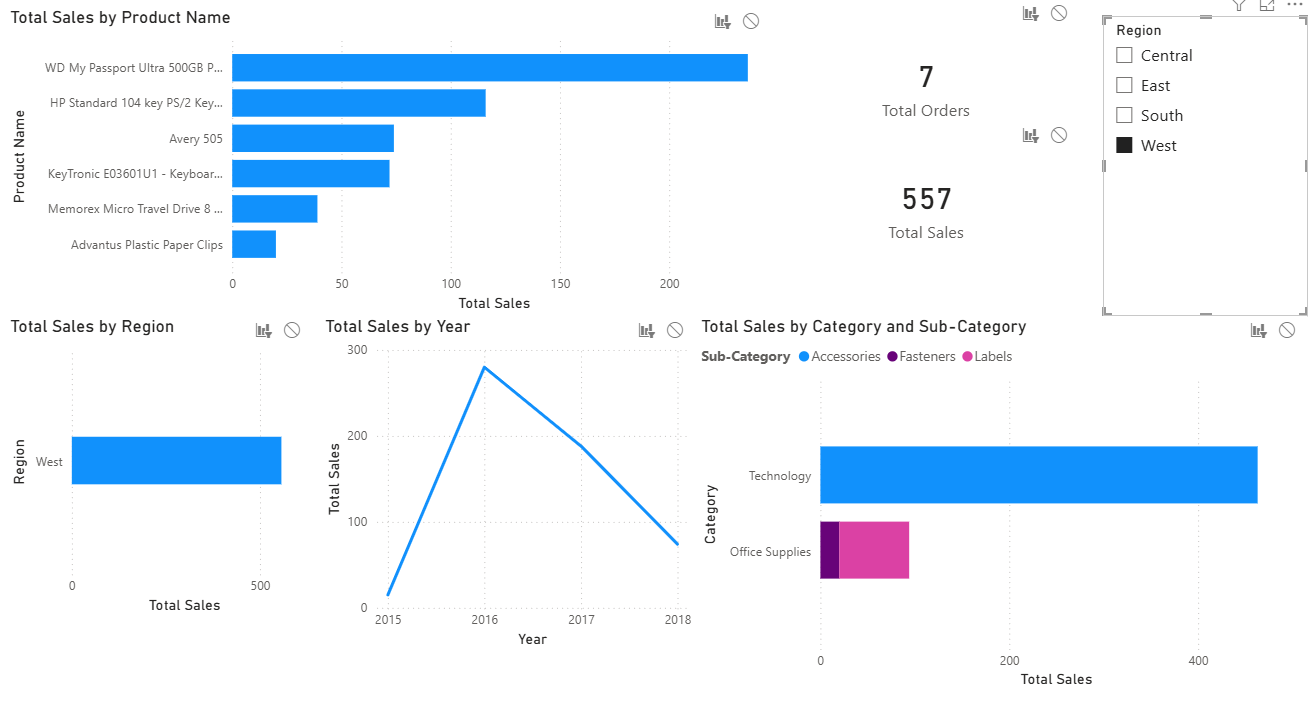

What the dashboard file says about the page in this screenshot:
{"tool":"powerbi","page":{"name":"Page 1","canvas":[1280,720],"ordinal":0},"visuals":[{"type":"card","fields":{"Values":["train (2).Total Orders"]},"box":[758.7,29.2,299.6,118.7],"z":0},{"type":"card","fields":{"Values":["train (2).Total Revenue"]},"box":[758.7,147.8,299.6,118.7],"z":1000},{"type":"lineChart","fields":{"Category":["train (2).Order Date.Variation.Date Hierarchy.Year","train (2).Order Date.Variation.Date Hierarchy.Quarter","train (2).Order Date.Variation.Date Hierarchy.Month","train (2).Order Date.Variation.Date Hierarchy.Day"],"Y":["train (2).Total Revenue"]},"box":[319,313.2,365.7,326.8],"z":2000},{"type":"barChart","fields":{"Category":["train (2).Region"],"Y":["train (2).Total Revenue"]},"box":[12.6,313.2,299.6,293.7],"z":3000},{"type":"barChart","fields":{"Category":["train (2).Product Name"],"Y":["train (2).Total Revenue"]},"box":[12.6,12.6,746,300.5],"z":4000},{"type":"slicer","fields":{"Values":["train (2).Region"]},"box":[1080.6,21.4,199.4,291.8],"z":5000},{"type":"barChart","fields":{"Category":["train (2).Category"],"Y":["train (2).Total Revenue"],"Series":["train (2).Sub-Category"]},"box":[684.7,313.2,595.3,366.7],"z":6000}]}

Visuals, with their boxes on the page's 1280x720 design canvas (x1, y1, x2, y2). These are canvas units, not pixel positions in the 1308x714 screenshot, which may show the page scaled, cropped or inside an application window:
card - train (2).Total Orders: Rect(759, 29, 1058, 148)
card - train (2).Total Revenue: Rect(759, 148, 1058, 266)
lineChart - train (2).Order Date.Variation.Date Hierarchy.Year x train (2).Order Date.Variation.Date Hierarchy.Quarter: Rect(319, 313, 685, 640)
barChart - train (2).Region x train (2).Total Revenue: Rect(13, 313, 312, 607)
barChart - train (2).Product Name x train (2).Total Revenue: Rect(13, 13, 759, 313)
slicer - train (2).Region: Rect(1081, 21, 1280, 313)
barChart - train (2).Category x train (2).Total Revenue: Rect(685, 313, 1280, 680)
